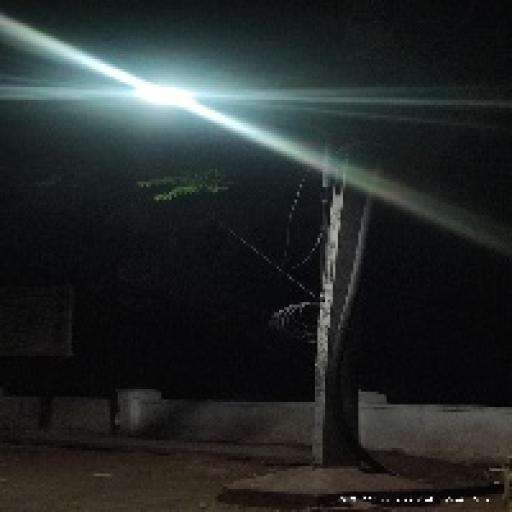Working: (110, 72, 211, 118)
